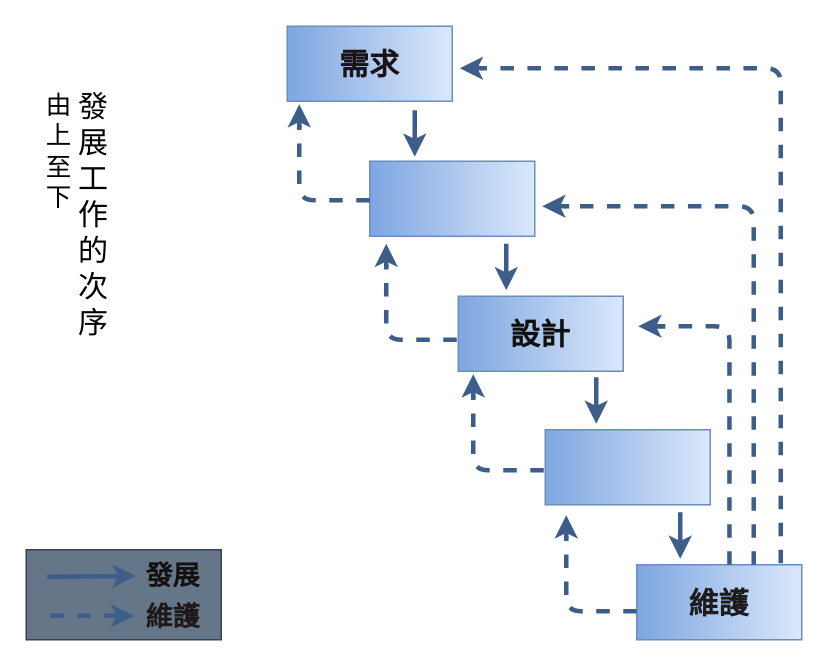
The diagram is 828 pixels wide and 666 high, and some of its shapes have lost their labels. The box of each missing label's shape, as (x1, y1, x2, y2) in pixels:
分析: (368, 160, 535, 236)
製作: (544, 428, 710, 505)
